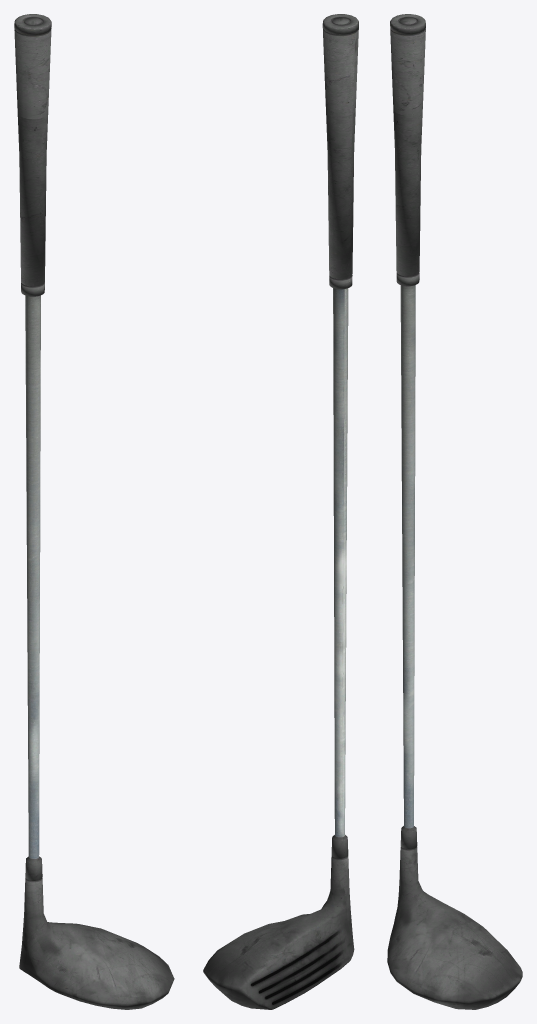
File: golf_club.glb
3 views of the same model, side by side, from view 1: azimuth 30°, elevation 25°; view 2: azimuth 210°, elevation 25°; view 3: azimuth 330°, elevation 25° (orthographic). The views are drawn at different scales.
Parts seen in each view (by area): view 1: Object_2; view 2: Object_2; view 3: Object_2.
Boxes of the visible parts, left/top/right/bottom form: Object_2: left=14, top=14, right=174, bottom=1009; Object_2: left=203, top=14, right=358, bottom=1009; Object_2: left=387, top=14, right=522, bottom=1009.
Size of the model in its own units: 0.1666 by 1.14 by 0.1236.
Materials: 1 (1 with a texture image).
